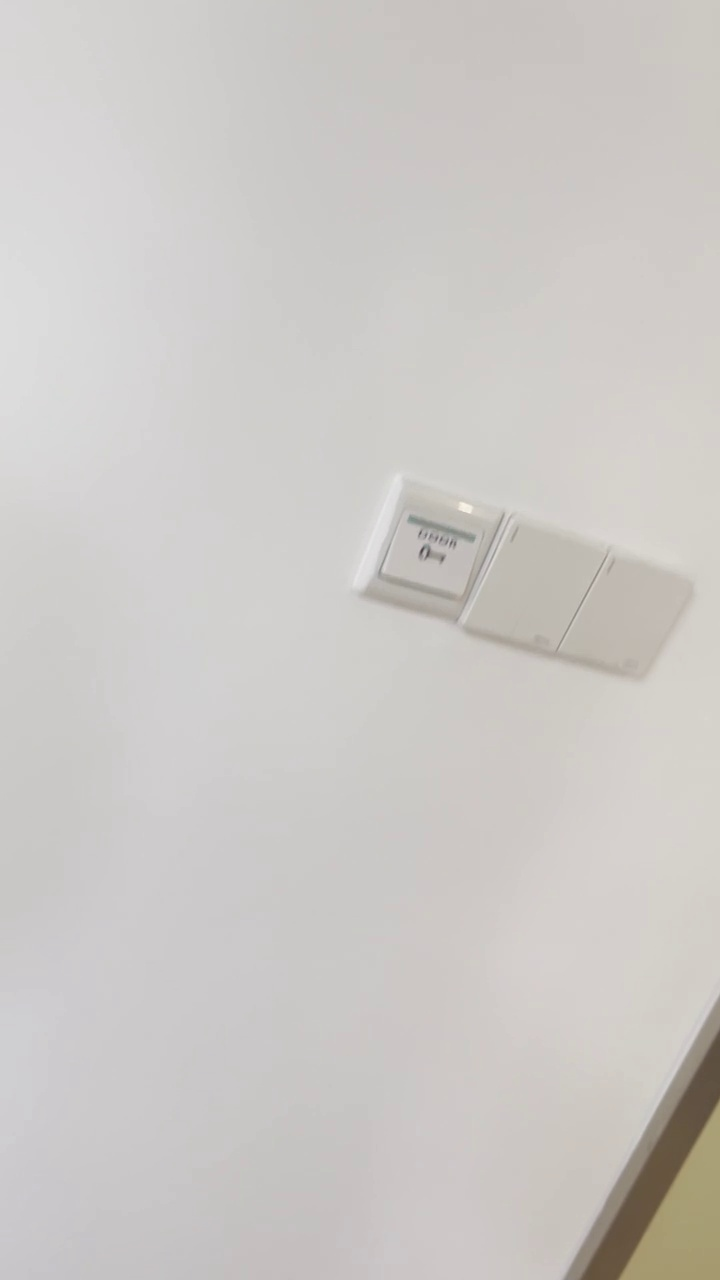button: (458, 509, 617, 655), (558, 549, 694, 684)
